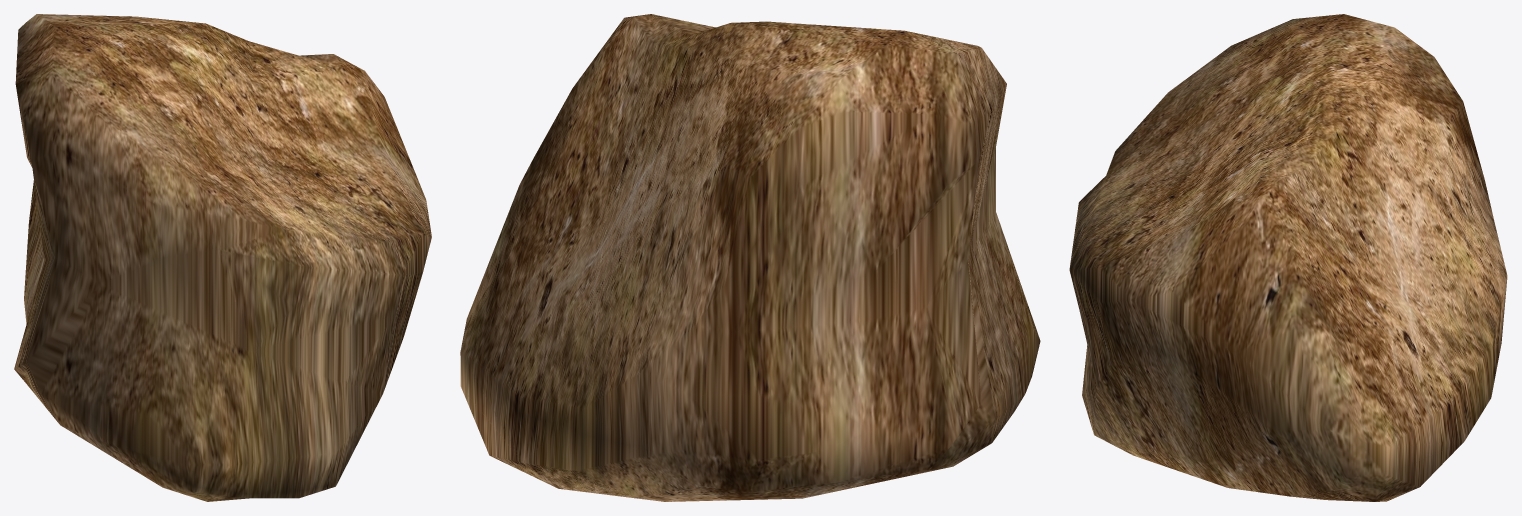
File: ganseki.FBX
3 views of the same model, side by side, from view 1: azimuth 30°, elevation 25°; view 2: azimuth 150°, elevation 25°; view 3: azimuth 270°, elevation 25° (orthographic). The views are drawn at different scales.
Visible parts, largest first — view 1: Gravel_001; view 2: Gravel_001; view 3: Gravel_001.
Part boxes in pixels (x1,y1,x2,y2): Gravel_001: (14,14,431,501); Gravel_001: (460,14,1040,501); Gravel_001: (1069,14,1507,501).
Size of the model in its own units: 5.4 by 5.57 by 5.72.
